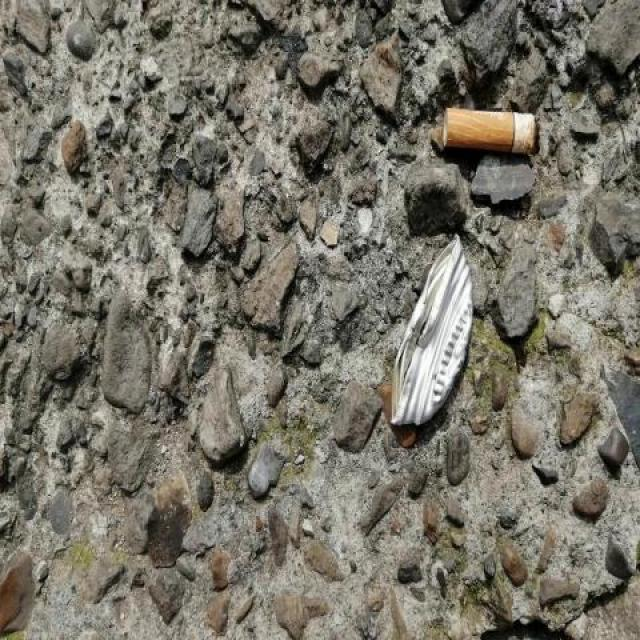non-organic waste: (438, 106, 542, 161)
